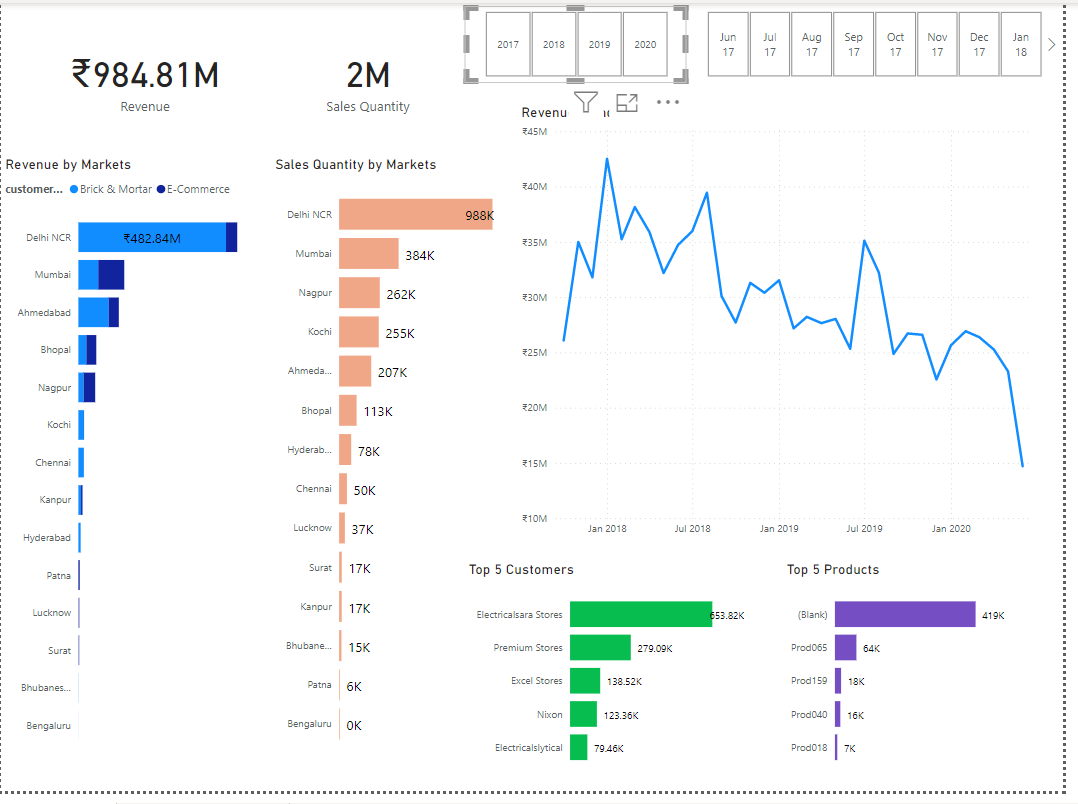

What the dashboard file says about the page in this screenshot:
{"tool":"powerbi","page":{"name":"Key Insights ","canvas":[1280,950],"ordinal":0},"visuals":[{"type":"card","fields":{"Values":["Base Measures.Revenue"]},"box":[21.4,0,303.8,185],"z":0},{"type":"card","fields":{"Values":["Base Measures.Sales Quantity"]},"box":[325.2,0,233.7,185],"z":1},{"type":"barChart","title":"Revenue by Markets ","fields":{"Y":["Base Measures.Revenue"],"Category":["sales markets.markets_name"],"Series":["sales customers.customer_type"]},"box":[0,185,319.4,728.3],"z":2},{"type":"barChart","title":"Sales Quantity by Markets ","fields":{"Y":["Base Measures.Sales Quantity"],"Category":["sales markets.markets_name"]},"box":[325.2,185,274.6,728.3],"z":3},{"type":"slicer","fields":{"Values":["sales date.year"]},"box":[558.9,3.9,268.7,91.5],"z":4},{"type":"slicer","fields":{"Values":["sales date.cy_date"]},"box":[827.6,3.9,451.8,91.5],"z":5},{"type":"barChart","title":"Top 5 Customers ","fields":{"Y":["Base Measures.Sales Quantity"],"Category":["sales customers.custmer_name"]},"box":[559.1,673.1,342,262.4],"z":6},{"type":"barChart","title":"Top 5 Products ","fields":{"Y":["Base Measures.Sales Quantity"],"Category":["sales products.product_code"]},"box":[942.8,673.1,311.2,262.4],"z":7},{"type":"lineChart","title":"Revenue Trend","fields":{"Category":["sales date.cy_date"],"Y":["Base Measures.Revenue"]},"box":[622.5,121.2,638.8,530.2],"z":8}]}

Visuals, with their boxes on the page's 1280x950 design canvas (x1, y1, x2, y2). These are canvas units, not pixel positions in the 1078x804 screenshot, which may show the page scaled, cropped or inside an application window:
card - Base Measures.Revenue: (21, 0, 325, 185)
card - Base Measures.Sales Quantity: (325, 0, 559, 185)
"Revenue by Markets " barChart: (0, 185, 319, 913)
"Sales Quantity by Markets " barChart: (325, 185, 600, 913)
slicer - sales date.year: (559, 4, 828, 95)
slicer - sales date.cy_date: (828, 4, 1279, 95)
"Top 5 Customers " barChart: (559, 673, 901, 936)
"Top 5 Products " barChart: (943, 673, 1254, 936)
"Revenue Trend" lineChart: (622, 121, 1261, 651)
